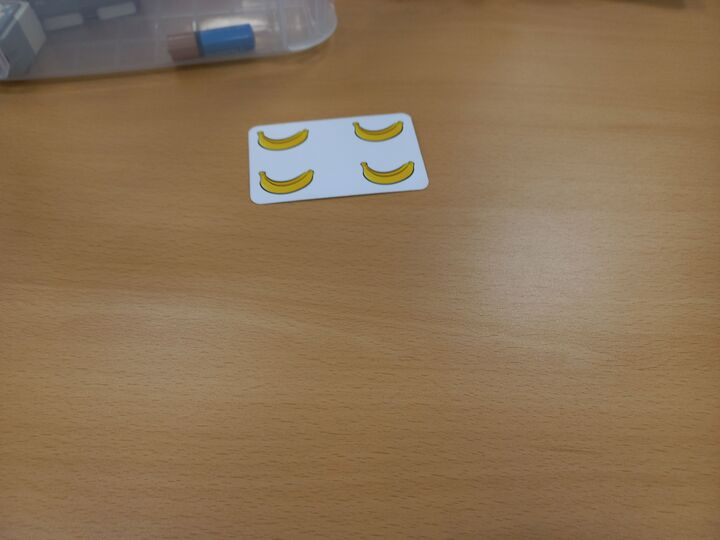banana4: (243, 112, 432, 207)
